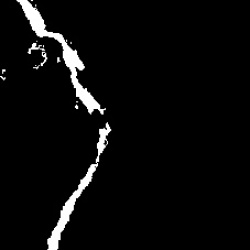crack: (19, 2, 104, 115), (48, 123, 109, 248), (27, 41, 46, 68)
